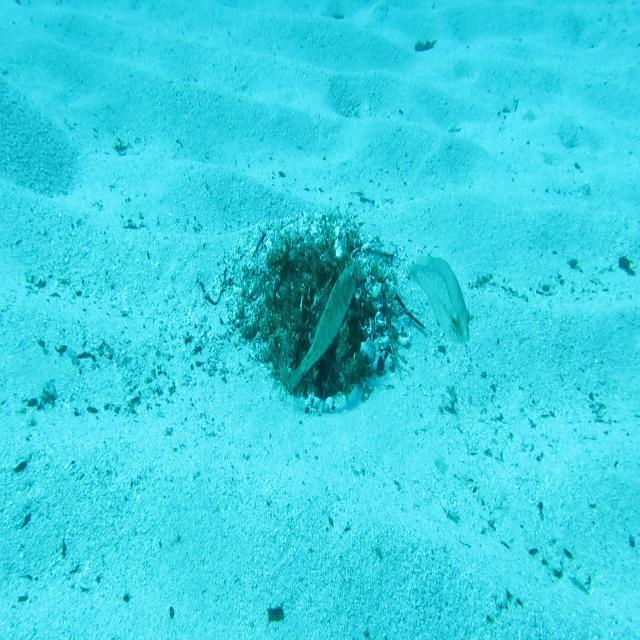FAN: (285, 261, 361, 396)
core_nest: (290, 254, 334, 289)
female: (408, 252, 471, 348)
nest: (218, 196, 416, 428)
vegetation: (618, 254, 636, 281), (267, 606, 287, 624), (414, 40, 439, 54)
